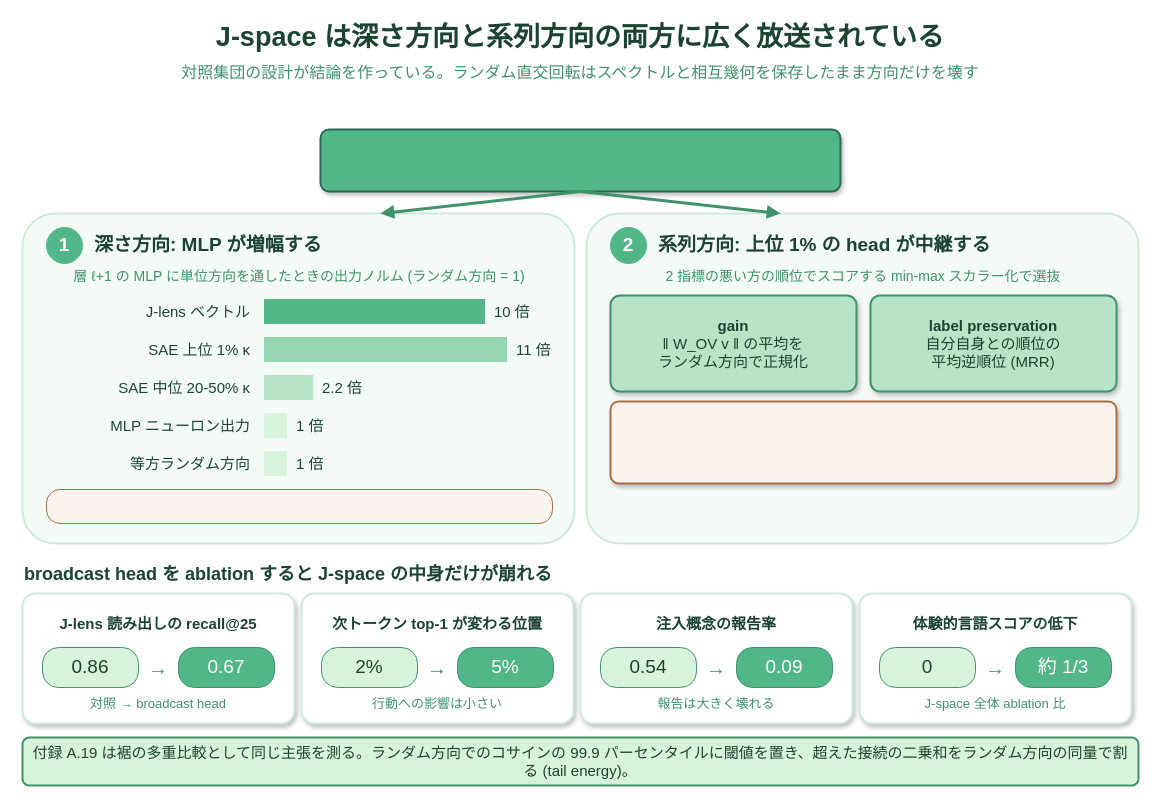
This 1157x803 diagram has some shape labels left out. Here are the shapes that lost their labels. From the top down, the centre of each, then its label:
At [581,161]: "作業空間 (L38-L92) の残差ストリーム".
At [864,443]: "対照集団 J_rot : 固定のランダム直交回転はスペクトルと対ごとの幾何を保存する。違うのは「重みが実際に見ている方向と揃っているか」だけである。".
At [299,506]: "序盤の作業空間層では SAE 上位 κ が J-lens を上回る。著者らはこれを手法の限界の証拠として自ら報告している".
